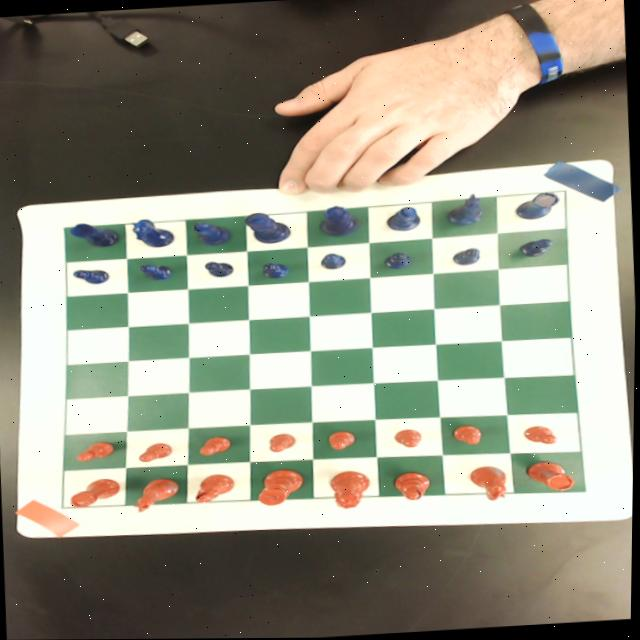B: (194, 220, 233, 246), (386, 206, 421, 232)
K: (245, 211, 293, 245)
N: (131, 217, 176, 248), (444, 193, 487, 225)
P: (137, 261, 174, 282), (72, 266, 111, 285), (519, 237, 554, 258), (203, 258, 236, 278), (452, 247, 483, 266), (383, 251, 414, 270), (261, 260, 292, 279), (320, 251, 348, 270)
Q: (318, 203, 360, 238)
R: (69, 220, 120, 249), (513, 190, 560, 221)
b: (196, 473, 237, 503), (395, 470, 433, 501)
k: (259, 468, 307, 506)
n: (131, 477, 181, 512), (468, 465, 513, 501)
p: (75, 439, 118, 462), (524, 425, 561, 446), (138, 441, 173, 462), (200, 435, 233, 457), (453, 424, 485, 446), (329, 430, 358, 450), (270, 433, 298, 453), (394, 429, 423, 448)
q: (330, 470, 373, 510)
r: (526, 459, 579, 495), (71, 476, 122, 509)
